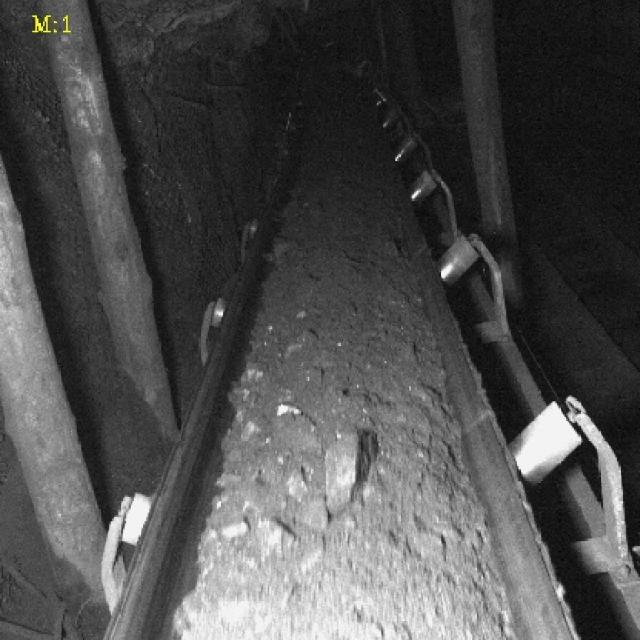large_sized_coal: (220, 364, 274, 454), (323, 431, 380, 511), (257, 518, 297, 568)
